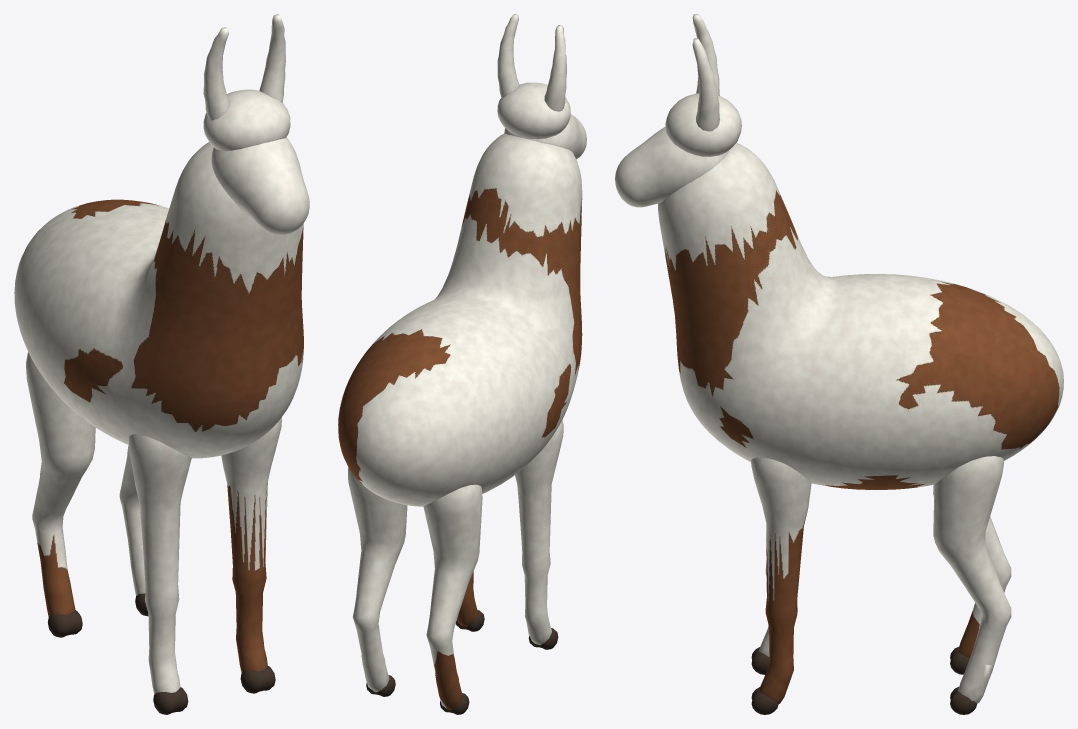
File: animal_llama.glb
3 renders of one model, left to right at view 1: azimuth 30°, elevation 25°; view 2: azimuth 150°, elevation 25°; view 3: azimuth 270°, elevation 25°, orthographic. The views are drawn at different scales.
Parts seen in each view (by area): view 1: animal_llama, head, leg0, leg2, leg1, leg3; view 2: animal_llama, leg2, leg3, head, leg0, leg1; view 3: animal_llama, leg3, head, leg1, leg2.
Part boxes in pixels (x1,y1,x2,y2): animal_llama: (14,142,303,458); head: (203,14,309,235); leg0: (128,434,191,714); leg2: (26,352,95,637); leg1: (221,417,281,693); leg3: (119,445,148,616); animal_llama: (338,133,582,506); leg2: (423,484,482,714); leg3: (348,467,407,696); head: (497,14,586,159); leg0: (515,420,563,649); leg1: (456,571,484,631); animal_llama: (658,143,1063,489); leg3: (933,456,1011,714); head: (615,14,741,207); leg1: (751,457,811,714); leg2: (933,484,1011,674).
Bounding box in the file's own units: 0.2918 × 0.9892 × 0.6054.
Materials: 1 (1 with a texture image).
